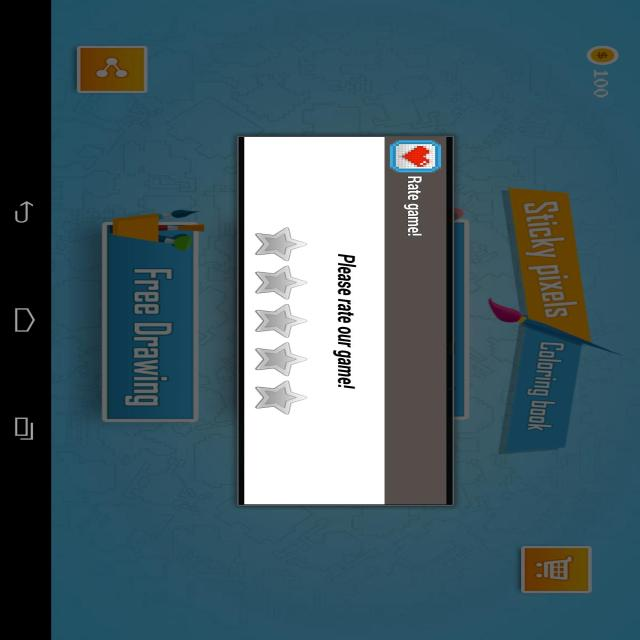button: (104, 222, 195, 422), (516, 546, 592, 594), (76, 46, 146, 93)
heading: (332, 248, 359, 397)
image: (50, 0, 640, 640), (386, 139, 444, 172)
text: (404, 176, 426, 238)
